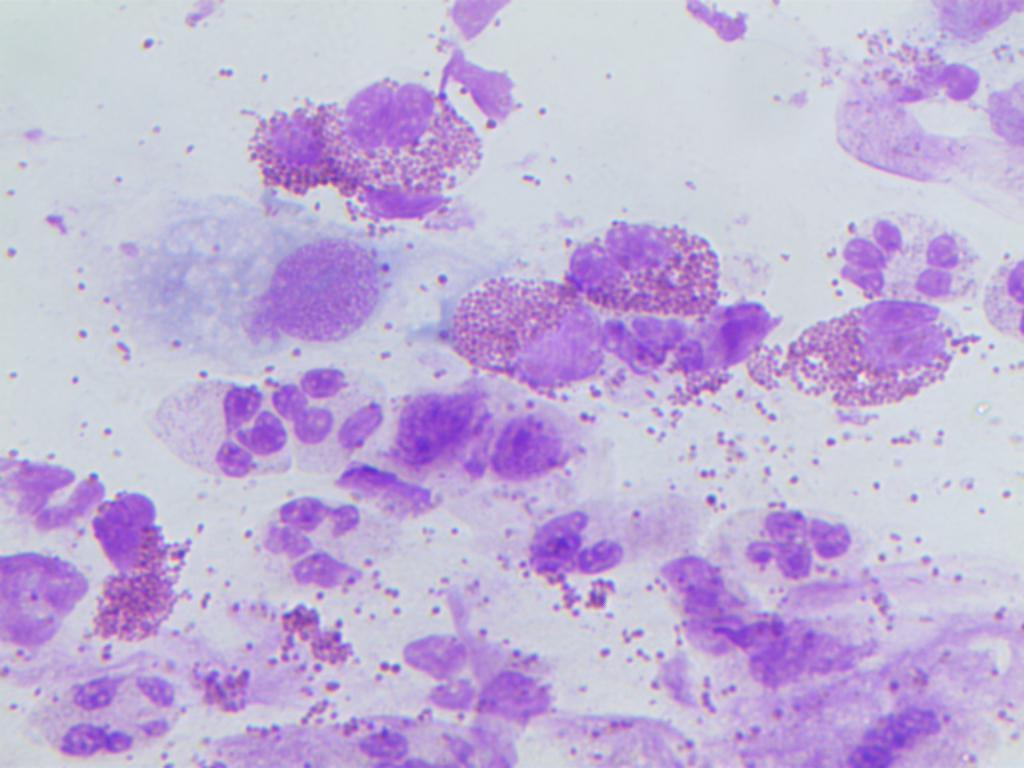artifact: (664, 570, 882, 697), (0, 547, 90, 663), (0, 438, 94, 538), (323, 464, 446, 520)
eosinophil: (245, 72, 494, 234), (605, 291, 788, 422), (808, 21, 991, 137), (576, 196, 741, 316), (790, 302, 963, 410), (448, 280, 617, 390), (84, 482, 195, 644)
epithelial: (264, 229, 399, 360), (384, 379, 489, 476), (486, 399, 590, 491)
neutrophil: (397, 618, 582, 742), (249, 482, 386, 606), (22, 664, 195, 756), (143, 369, 289, 477), (709, 496, 874, 584), (841, 212, 974, 306), (270, 362, 393, 456), (313, 715, 523, 768), (527, 494, 634, 596), (976, 244, 1024, 347)
